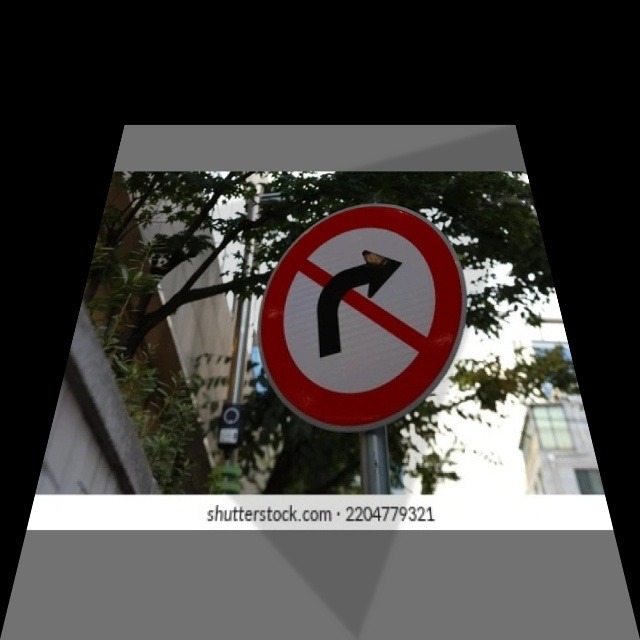Right_Turn_Prohibited: (249, 206, 488, 428)
